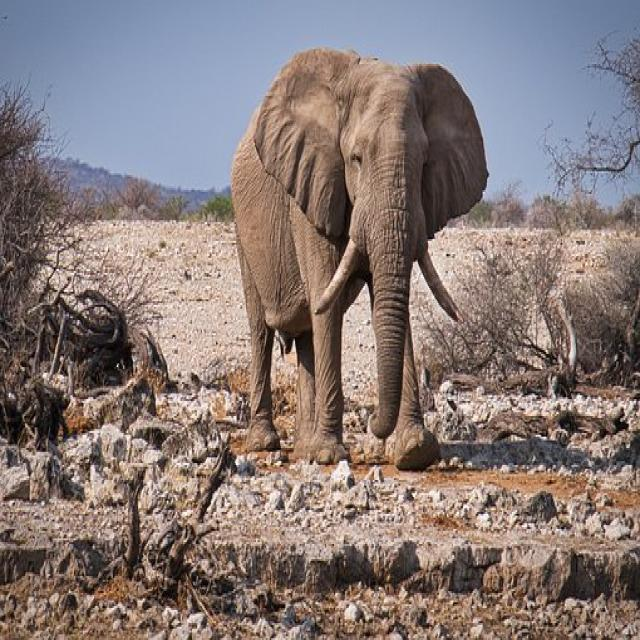Elephant: (212, 22, 510, 482)
